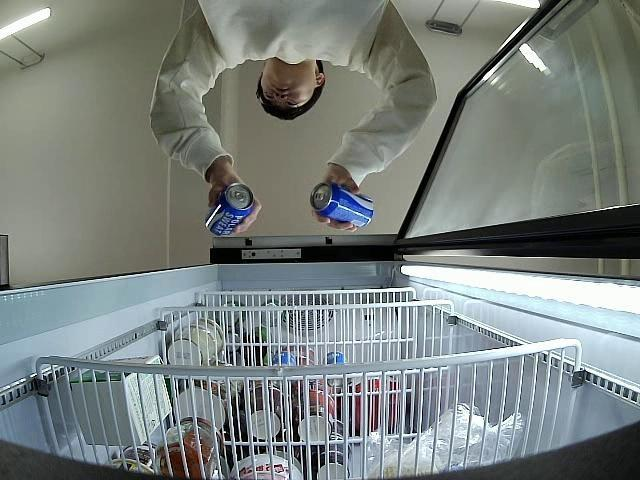13_pocariSweat: (312, 181, 374, 230), (208, 184, 254, 236)
